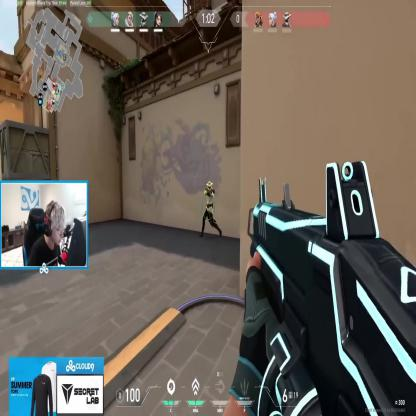enemy: (200, 178, 222, 242)
enemy_head: (208, 182, 212, 191)
